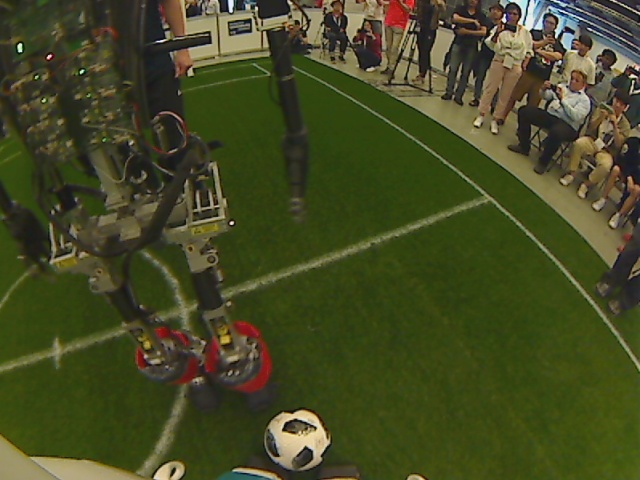ball: (261, 407, 332, 473)
